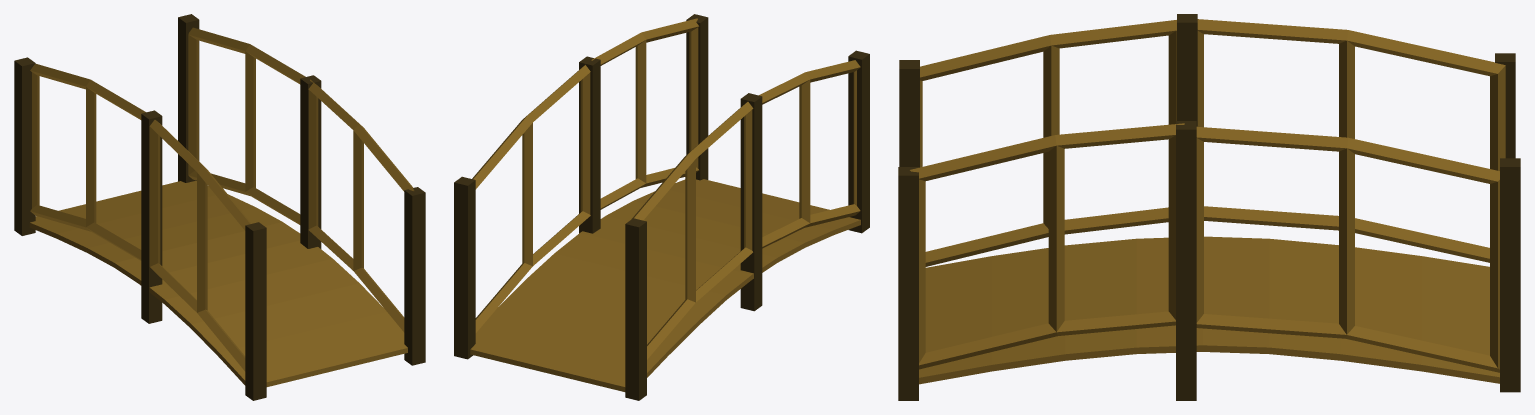
Rendered from bridge.glb.
The picture shows the model from 3 angles, left to right: view 1: azimuth 30°, elevation 25°; view 2: azimuth 150°, elevation 25°; view 3: azimuth 270°, elevation 25°; orthographic projection. The views are drawn at different scales.
Visible parts, largest first — view 1: Cylinder, Cube.011, Cube.006, Cube.010, Cube.007, Cube, Cube.003, Cube.001, Cube.004, Cube.005, Cube.002; view 2: Cylinder, Cube.010, Cube.007, Cube.006, Cube.011, Cube.001, Cube.002, Cube.004, Cube, Cube.005, Cube.003; view 3: Cylinder, Cube.010, Cube.006, Cube.007, Cube.011, Cube.005, Cube.002, Cube.003, Cube.004, Cube, Cube.001.
Boxes of the visible parts, box(x1,y1,x2,y2) form: Cylinder: box(29, 181, 407, 386); Cube.011: box(149, 120, 251, 371); Cube.006: box(308, 79, 414, 332); Cube.010: box(188, 27, 305, 224); Cube.007: box(30, 63, 145, 260); Cube: box(245, 222, 266, 400); Cube.003: box(404, 187, 425, 365); Cube.001: box(14, 57, 35, 235); Cube.004: box(141, 110, 162, 323); Cube.005: box(300, 75, 321, 248); Cube.002: box(178, 14, 199, 182); Cylinder: box(470, 179, 860, 391); Cube.010: box(472, 65, 590, 332); Cube.007: box(632, 102, 753, 359); Cube.006: box(591, 18, 698, 209); Cube.011: box(759, 60, 860, 248); Cube.001: box(625, 218, 646, 400); Cube.002: box(454, 176, 475, 359); Cube.004: box(740, 93, 762, 311); Cube: box(848, 50, 869, 233); Cube.005: box(579, 56, 600, 233); Cube.003: box(686, 14, 708, 180); Cylinder: box(919, 236, 1499, 384); Cube.010: box(1196, 126, 1499, 372); Cube.006: box(909, 123, 1184, 369); Cube.007: box(1197, 19, 1505, 262); Cube.011: box(920, 20, 1176, 266); Cube.005: box(1176, 121, 1196, 400); Cube.002: box(1500, 158, 1520, 392); Cube.003: box(898, 167, 918, 400); Cube.004: box(1177, 14, 1197, 126); Cube: box(899, 60, 919, 167); Cube.001: box(1495, 53, 1515, 158).
Bounding box in the file's own units: 1.7 × 1.89 × 3.86.
